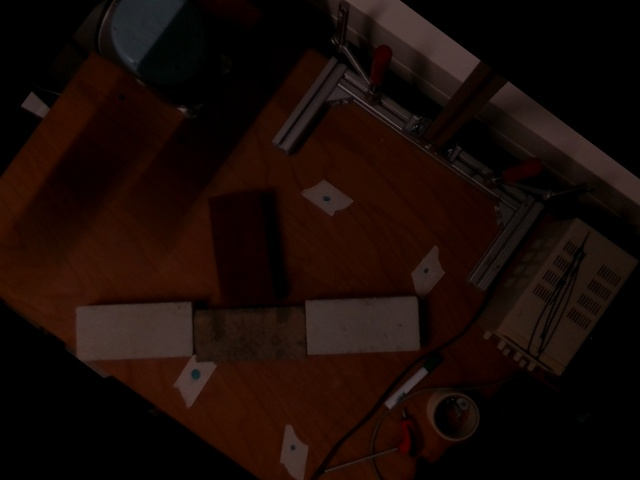brick: (211, 190, 273, 309), (308, 299, 420, 352), (193, 309, 304, 362), (80, 305, 191, 358)
